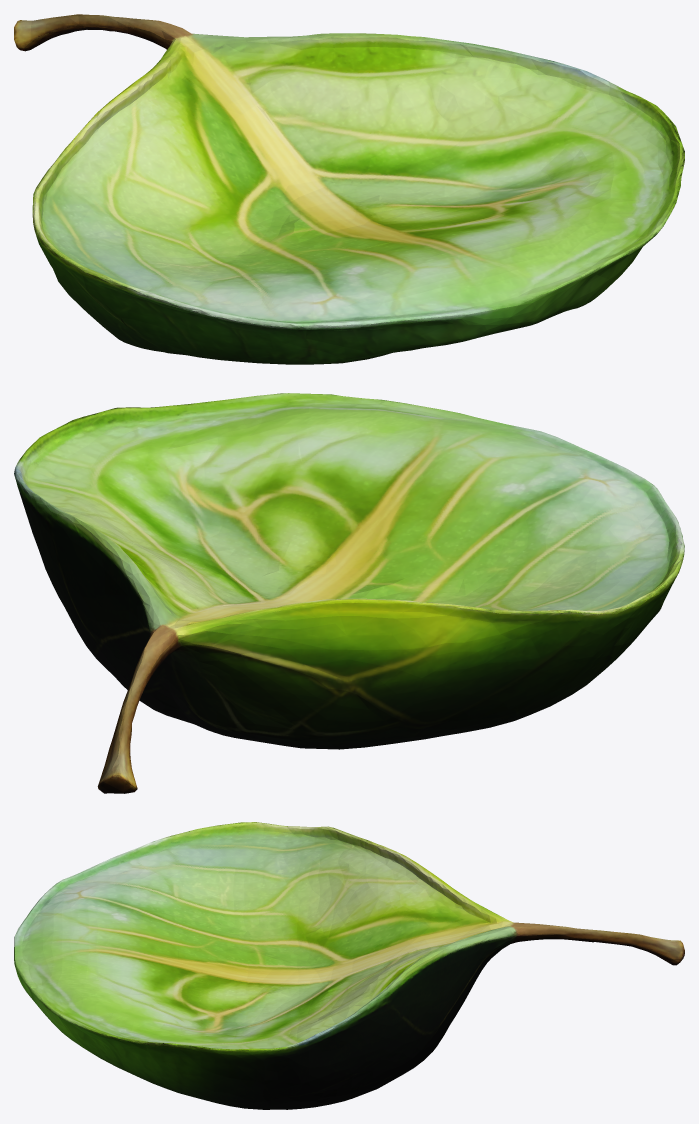
Rendered from compressed-leaf-post-it-holder-organic hi-res.jpeg.glb.
3 views of the same model, one above another, from view 1: azimuth 30°, elevation 25°; view 2: azimuth 150°, elevation 25°; view 3: azimuth 270°, elevation 25° (orthographic). The views are drawn at different scales.
Parts seen in each view (by area): view 1: world; view 2: world; view 3: world.
Part boxes in pixels (x1,y1,x2,y2): world: (14, 14, 684, 364); world: (14, 393, 684, 793); world: (14, 822, 684, 1109).
Bounding box in the file's own units: 0.8036 × 0.2099 × 0.9975.
1 material, 1 textured.
